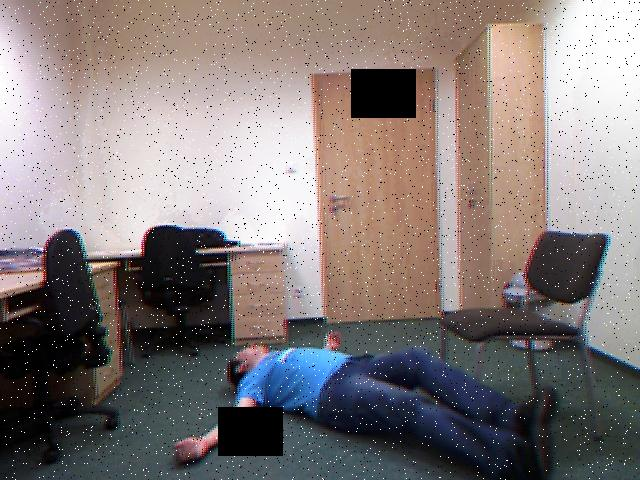fall: (167, 317, 577, 480)
